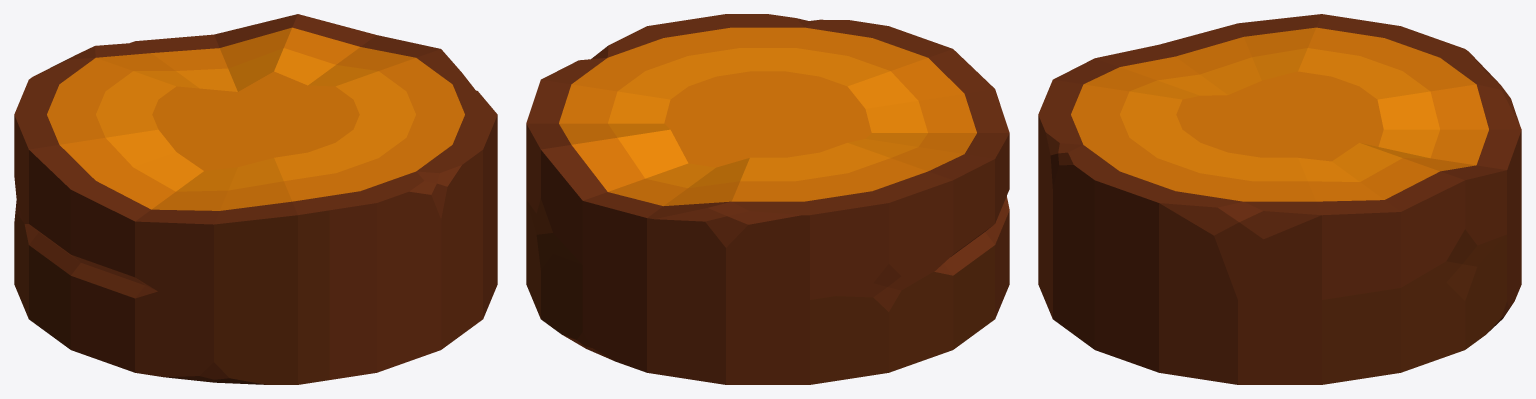
Rendered from Tree log_31.fbx.
3 views of the same model, side by side, from view 1: azimuth 30°, elevation 25°; view 2: azimuth 150°, elevation 25°; view 3: azimuth 270°, elevation 25° (orthographic).
Visible parts, largest first — view 1: Circle.398; view 2: Circle.398; view 3: Circle.398.
Boxes of the visible parts, x1=… form: Circle.398: x1=14, y1=14, x2=497, y2=384; Circle.398: x1=526, y1=14, x2=1009, y2=384; Circle.398: x1=1038, y1=14, x2=1521, y2=384.
Size of the model in its own units: 23.2 by 9.13 by 23.56.
